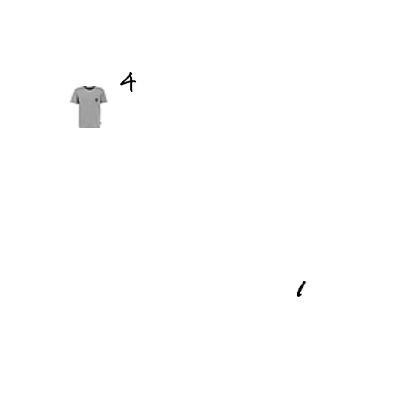0: (31, 53, 87, 109)
1: (212, 95, 324, 207)
2: (100, 65, 156, 121), (44, 324, 72, 352)
4: (156, 151, 170, 165)
7: (168, 135, 210, 177)
Coat: (254, 273, 268, 287)
Shirt: (0, 389, 22, 411)
Sneaker: (101, 216, 213, 328)
